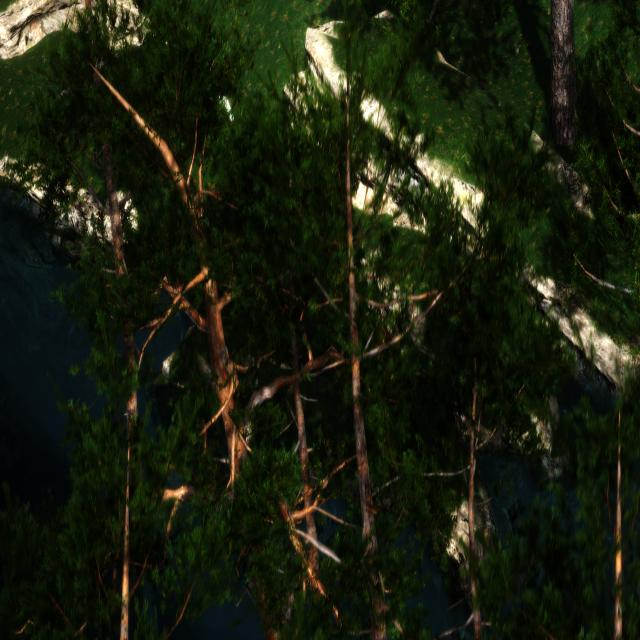Human: (199, 56, 237, 123)
